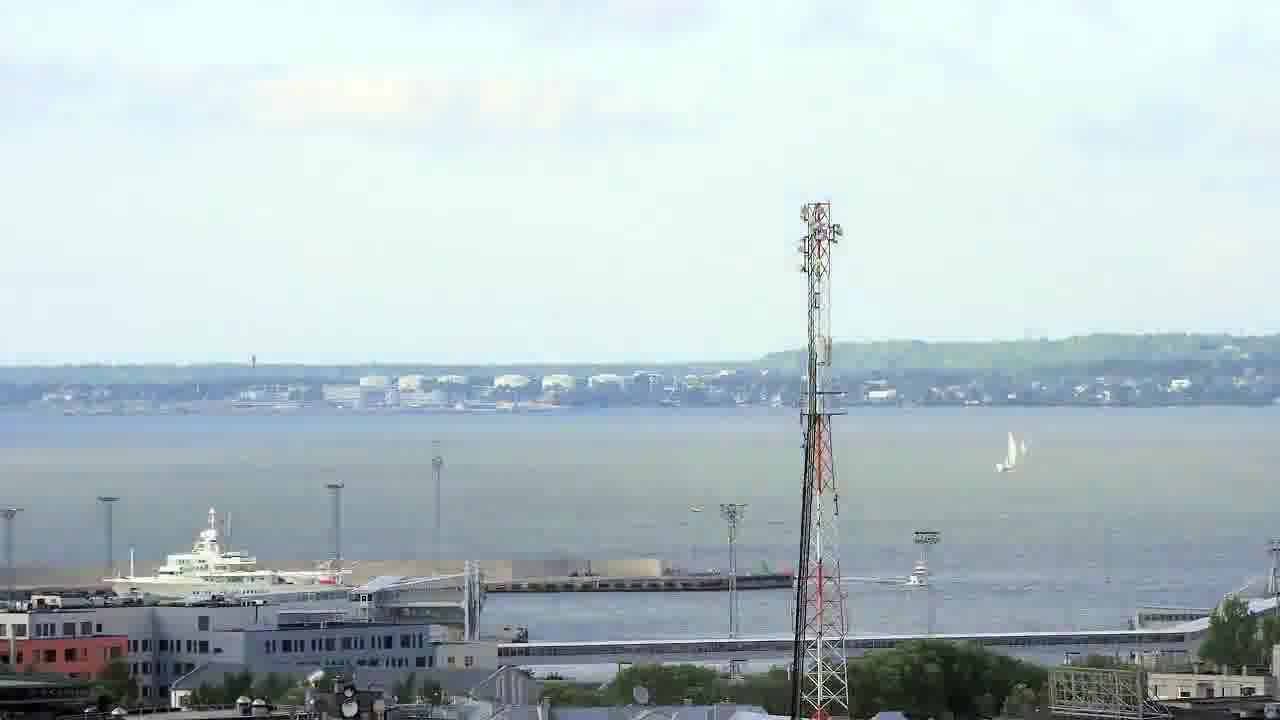type-1: (887, 548, 950, 593)
type-2: (984, 416, 1043, 486)
type-3: (84, 515, 355, 603)
